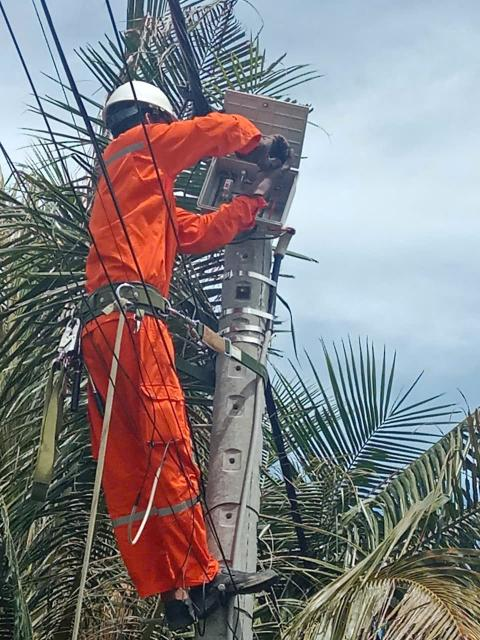gloves: (228, 115, 309, 172)
harness: (66, 274, 206, 353)
helmet: (83, 70, 189, 128)
shoes: (188, 562, 307, 620), (148, 594, 217, 632)
